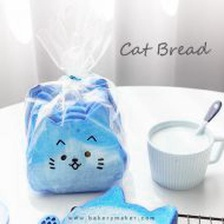glass: (141, 115, 224, 194)
snack: (14, 0, 139, 201)
